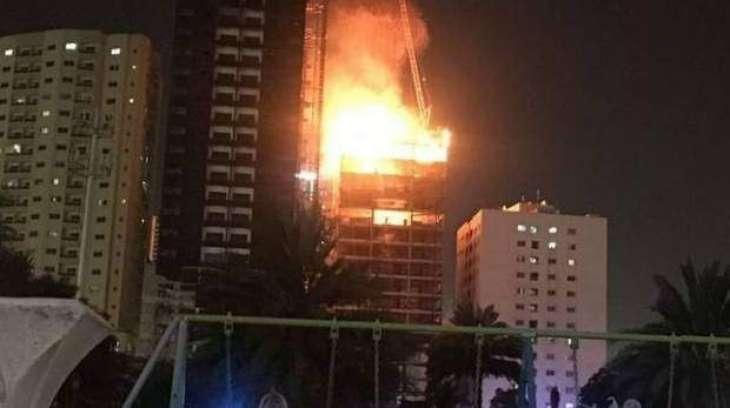fire: (323, 95, 450, 173), (372, 207, 411, 227)
smoke: (324, 6, 429, 93)
